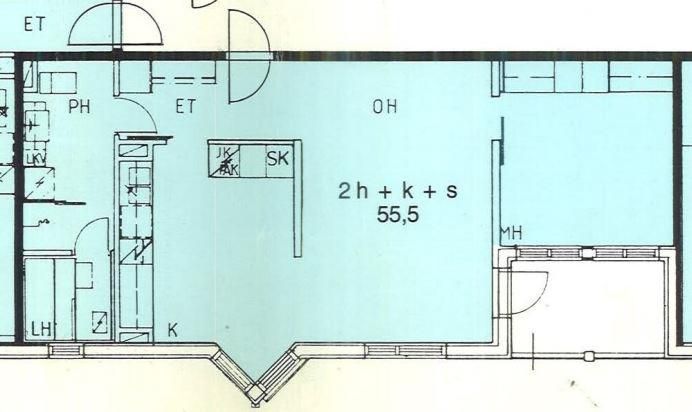door: (494, 267, 552, 319), (224, 52, 274, 109), (223, 7, 275, 61), (112, 1, 166, 48), (66, 4, 122, 46), (111, 95, 160, 136), (71, 215, 112, 258)
window: (254, 347, 312, 398), (208, 346, 259, 396), (357, 339, 454, 360), (585, 240, 665, 264), (512, 240, 588, 262), (42, 336, 91, 362)
